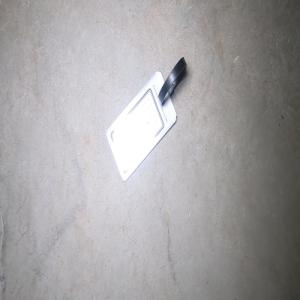LuggageTag: (104, 55, 187, 183)
